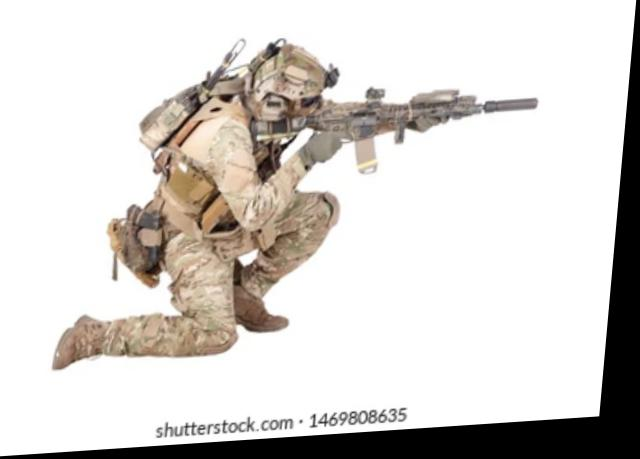other: (137, 24, 355, 366)
